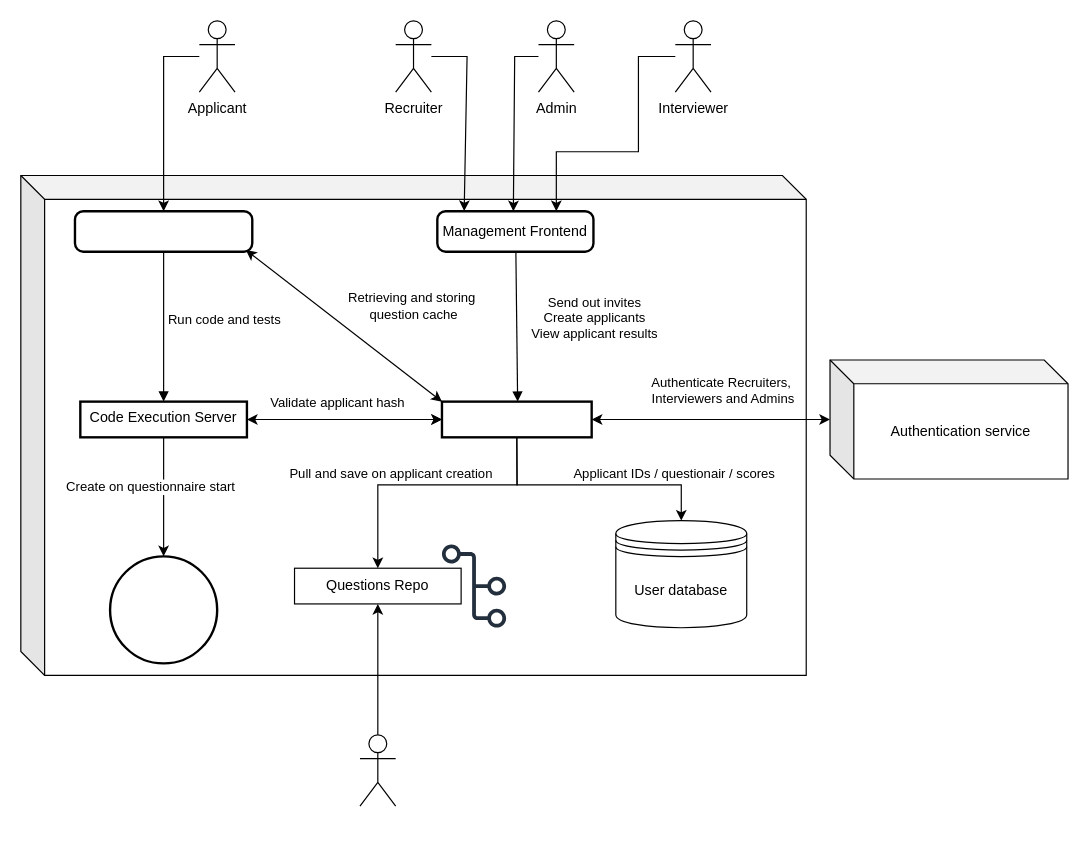
This 1089x852 diagram has some shape labels left out. The shapes that lost their labels are listed below. From the top down, each one's centre as x and y in pixels, then its label:
[163,230]: Applicant Frontend
[516,419]: Management Server
[163,609]: Code Execution Container
[377,770]: Question Maintainer
